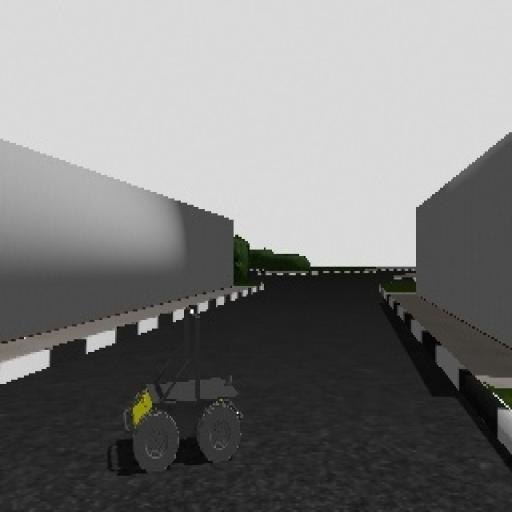huskya200: (103, 303, 240, 480)
